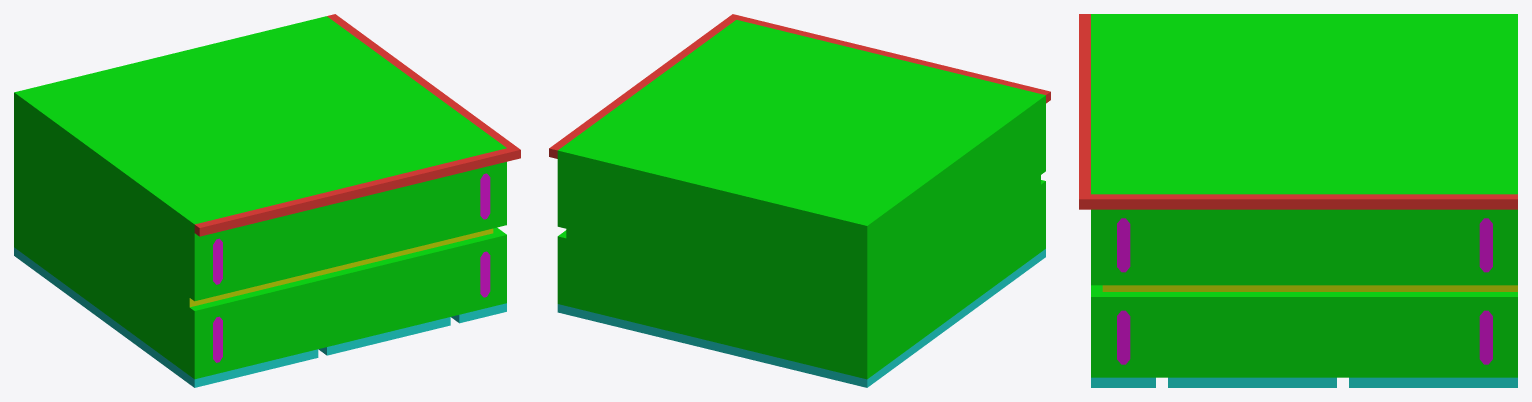
The model's file is Interior_Deco_09_Corner.fbx.
3 renders of one model, left to right at view 1: azimuth 30°, elevation 25°; view 2: azimuth 150°, elevation 25°; view 3: azimuth 270°, elevation 25°, orthographic. The views are drawn at different scales.
Visible parts, largest first — view 1: Interior_Deco_09_Corner; view 2: Interior_Deco_09_Corner; view 3: Interior_Deco_09_Corner.
Boxes of the visible parts, bbox=[...] form: Interior_Deco_09_Corner: bbox=[14, 14, 520, 387]; Interior_Deco_09_Corner: bbox=[549, 14, 1050, 387]; Interior_Deco_09_Corner: bbox=[1079, 14, 1517, 387].
Bounding box in the file's own units: 93.98 × 45.72 × 93.98.
